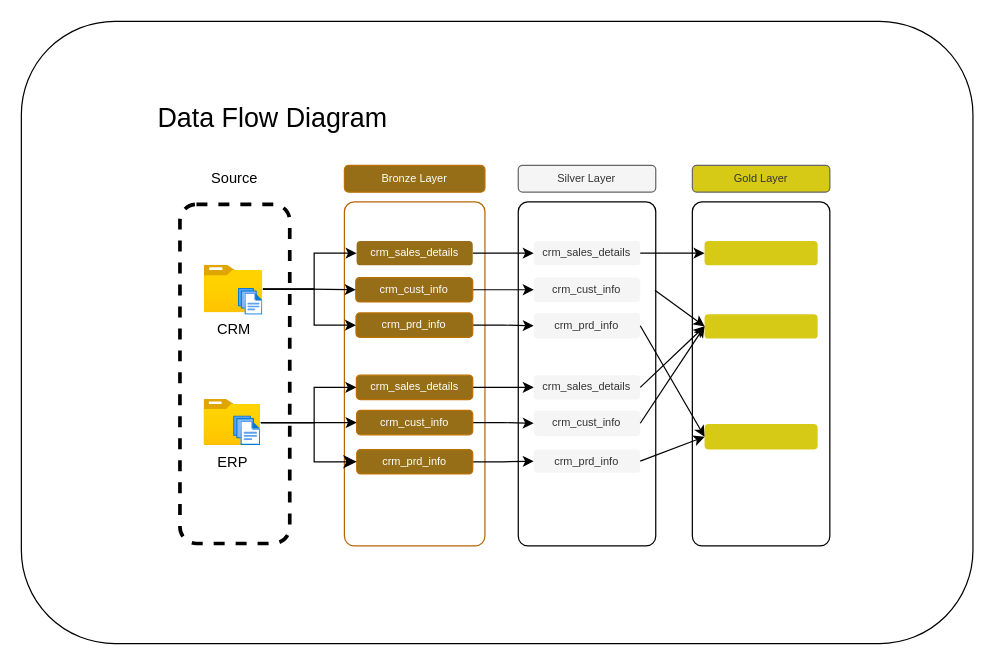
The diagram is 994 pixels wide and 665 high, and some of its shapes have lost their labels. Each missing label, with the centre of its shape:
"dim_customers" belongs at point (760, 326).
"dim_products" belongs at point (760, 436).
"fact_sales" belongs at point (760, 252).
